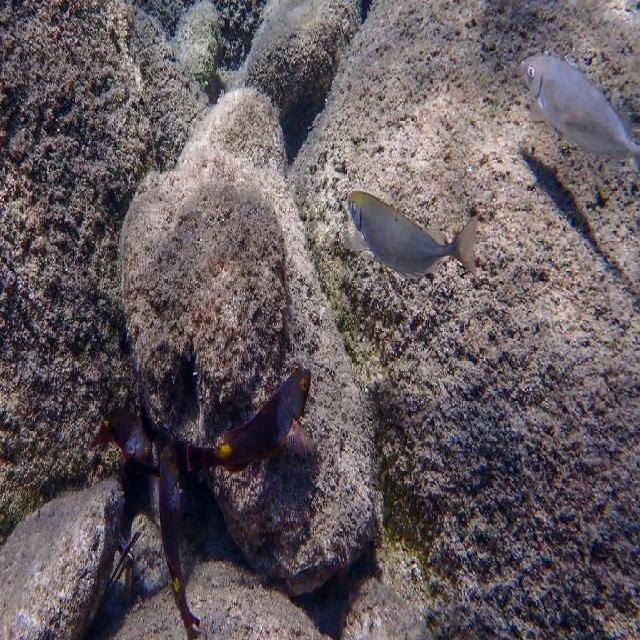Sokar Baligi: (339, 175, 481, 292)
